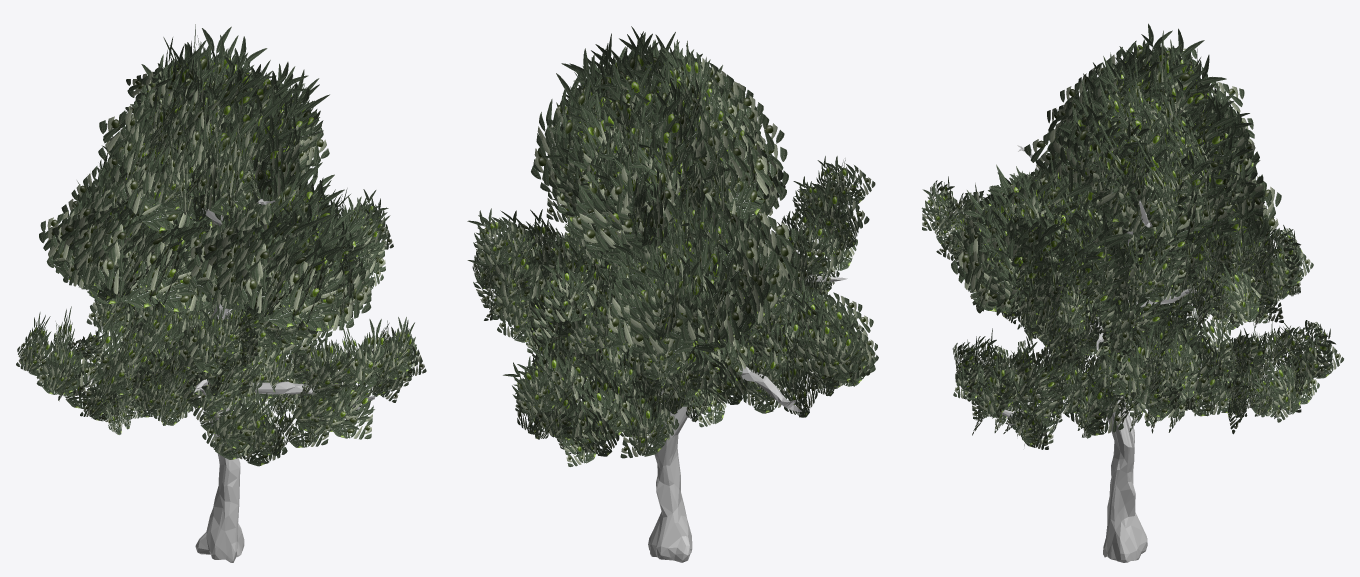
Rendered from Pine3.fbx.
The picture shows the model from 3 angles, left to right: view 1: azimuth 30°, elevation 25°; view 2: azimuth 150°, elevation 25°; view 3: azimuth 270°, elevation 25°; orthographic projection. The views are drawn at different scales.
Visible parts, largest first — view 1: Cylinder.004; view 2: Cylinder.004; view 3: Cylinder.004.
Part boxes in pixels (x1,y1,x2,y2): Cylinder.004: (16, 24, 426, 562); Cylinder.004: (467, 26, 878, 562); Cylinder.004: (921, 23, 1343, 562).
Bounding box in the file's own units: 37.07 × 49.22 × 36.29.
